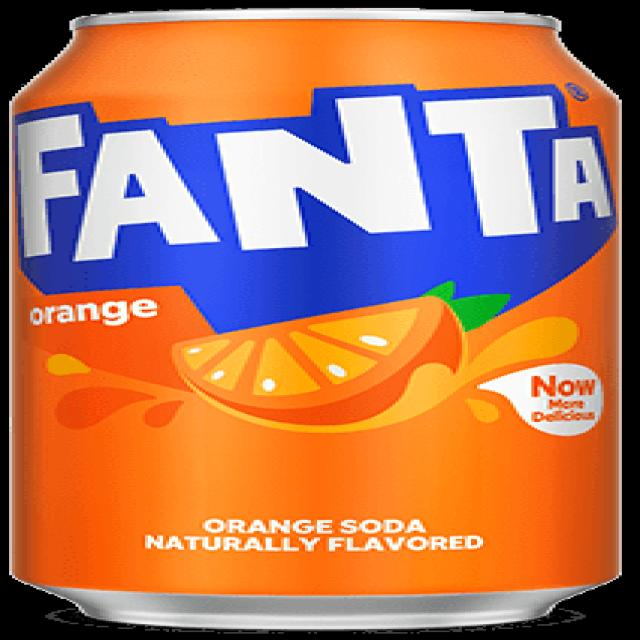fanta: (0, 1, 637, 640)
